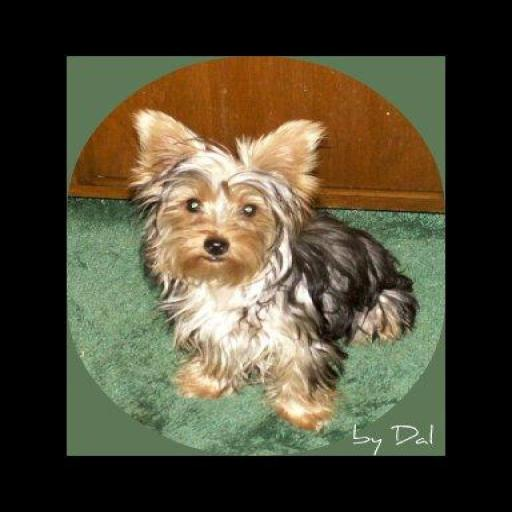dog_face: (124, 112, 315, 298)
